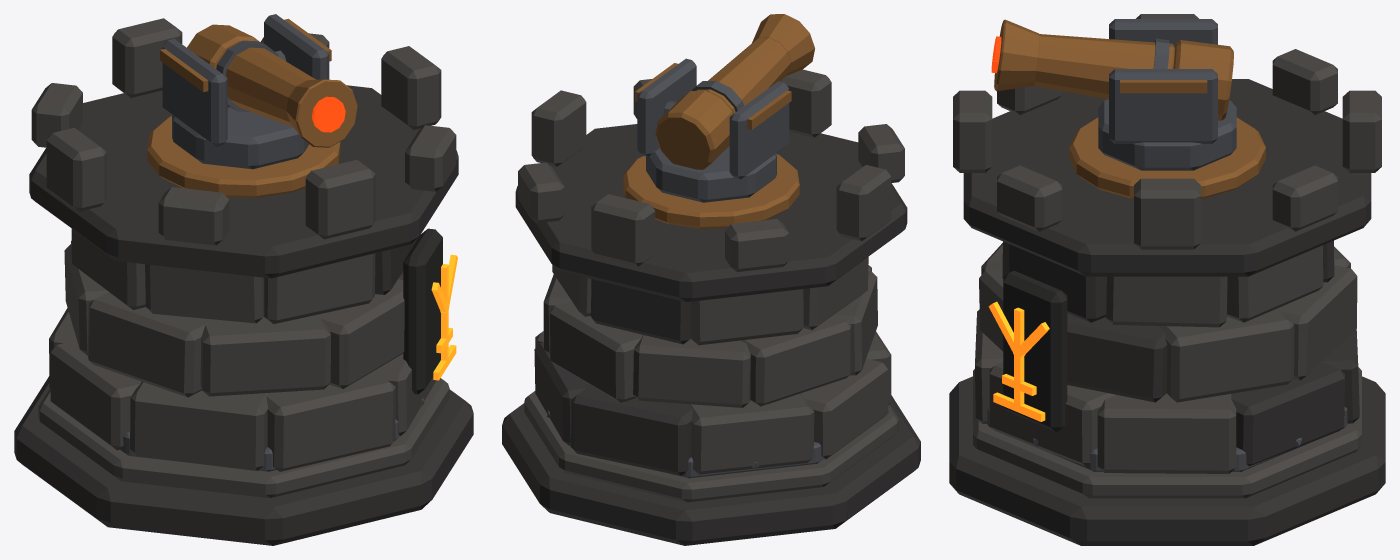
File: cannon_tower_lvl1.glb
3 renders of one model, left to right at view 1: azimuth 30°, elevation 25°; view 2: azimuth 150°, elevation 25°; view 3: azimuth 270°, elevation 25°, orthographic. The views are drawn at different scales.
Visible parts, largest first — view 1: Platform, Plinth, Plinth_Step, Block_0_5, Block_0_6, Block_1_5, Block_1_4, Turret_Ring, Block_0_4, Block_2_5, Block_1_6, Block_2_6 (+23 smaller); view 2: Platform, Plinth, Plinth_Step, Block_0_2, Block_0_3, Block_1_2, Block_1_3, Block_1_1, Turret_Ring, Block_0_4, Block_2_3, Breech (+22 smaller); view 3: Platform, Plinth, Plinth_Step, Block_0_0, Block_1_0, Block_0_1, Block_1_7, RuneStone_0, Cheek_R, Turret_Ring, Block_2_0, Barrel_Tube (+23 smaller).
Part boxes in pixels (x1,y1,x2,y2): Platform: [29, 85, 458, 278]; Plinth: [14, 376, 473, 545]; Plinth_Step: [38, 378, 449, 498]; Block_0_5: [130, 381, 267, 470]; Block_0_6: [266, 370, 395, 471]; Block_1_5: [200, 314, 330, 396]; Block_1_4: [87, 292, 214, 397]; Turret_Ring: [147, 116, 340, 197]; Block_0_4: [50, 340, 141, 450]; Block_2_5: [145, 264, 264, 323]; Block_1_6: [319, 279, 404, 388]; Block_2_6: [263, 253, 375, 324]; Platform: [515, 124, 907, 302]; Plinth: [502, 395, 920, 545]; Plinth_Step: [524, 391, 898, 502]; Block_0_2: [571, 385, 692, 475]; Block_0_3: [690, 393, 814, 474]; Block_1_2: [633, 335, 750, 407]; Block_1_3: [741, 314, 851, 406]; Block_1_1: [550, 301, 642, 402]; Turret_Ring: [623, 154, 799, 228]; Block_0_4: [801, 358, 888, 459]; Block_2_3: [691, 289, 803, 345]; Breech: [655, 90, 732, 169]; Platform: [963, 79, 1371, 276]; Plinth: [949, 376, 1385, 545]; Plinth_Step: [973, 367, 1361, 498]; Block_0_0: [1097, 393, 1236, 473]; Block_1_0: [1159, 308, 1294, 402]; Block_0_1: [1231, 363, 1345, 466]; Block_1_7: [1067, 313, 1167, 402]; RuneStone_0: [1003, 270, 1067, 431]; Cheek_R: [1109, 69, 1217, 143]; Turret_Ring: [1069, 117, 1265, 198]; Block_2_0: [1106, 276, 1227, 327]; Barrel_Tube: [1033, 34, 1174, 99].
Bounding box in the file's own units: 2.22 × 2.44 × 2.22.
